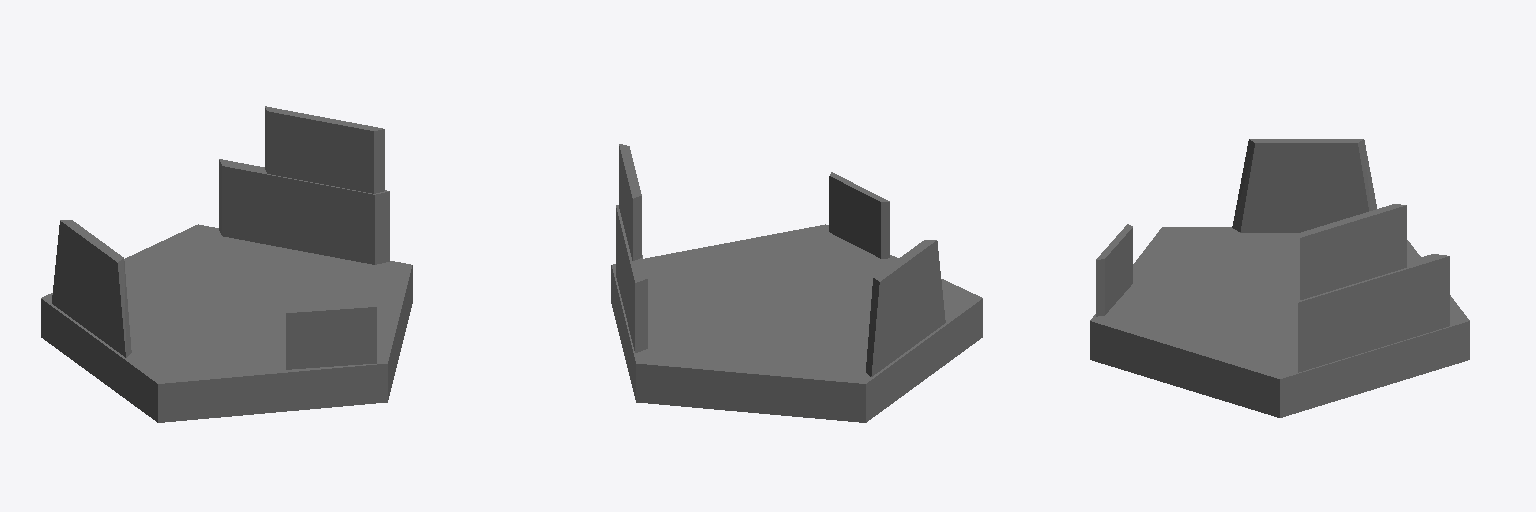
Rendered from conn5.obj.
The picture shows the model from 3 angles: view 1: azimuth 30°, elevation 25°; view 2: azimuth 150°, elevation 25°; view 3: azimuth 270°, elevation 25°; orthographic projection.
Visible parts, largest first — view 1: conn0:pCylinder1; view 2: conn0:pCylinder1; view 3: conn0:pCylinder1.
Boxes of the visible parts, <box> form: conn0:pCylinder1: <box>41,106,412,422</box>; conn0:pCylinder1: <box>611,144,982,422</box>; conn0:pCylinder1: <box>1090,139,1469,417</box>.
Size of the model in its own units: 16.82 by 8.82 by 17.68.